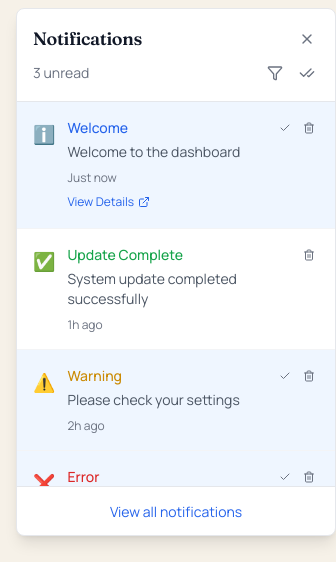
Scenario: NotificationCenter Component › Filtering › toggles between all and unread filter
Step 1. Click the button named "Show unread only" → (275, 73), box [263,61,287,85]
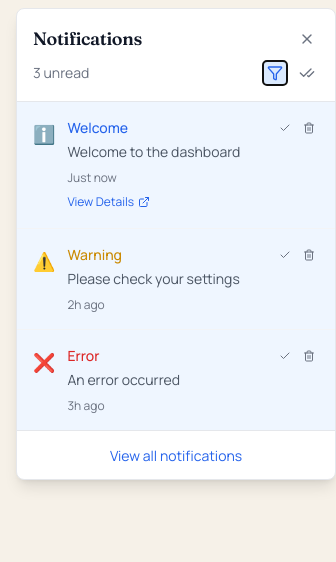
Expected: the text "Welcome" is shown, [68,118,128,137]
Expected: the text "Update Complete" is gone
